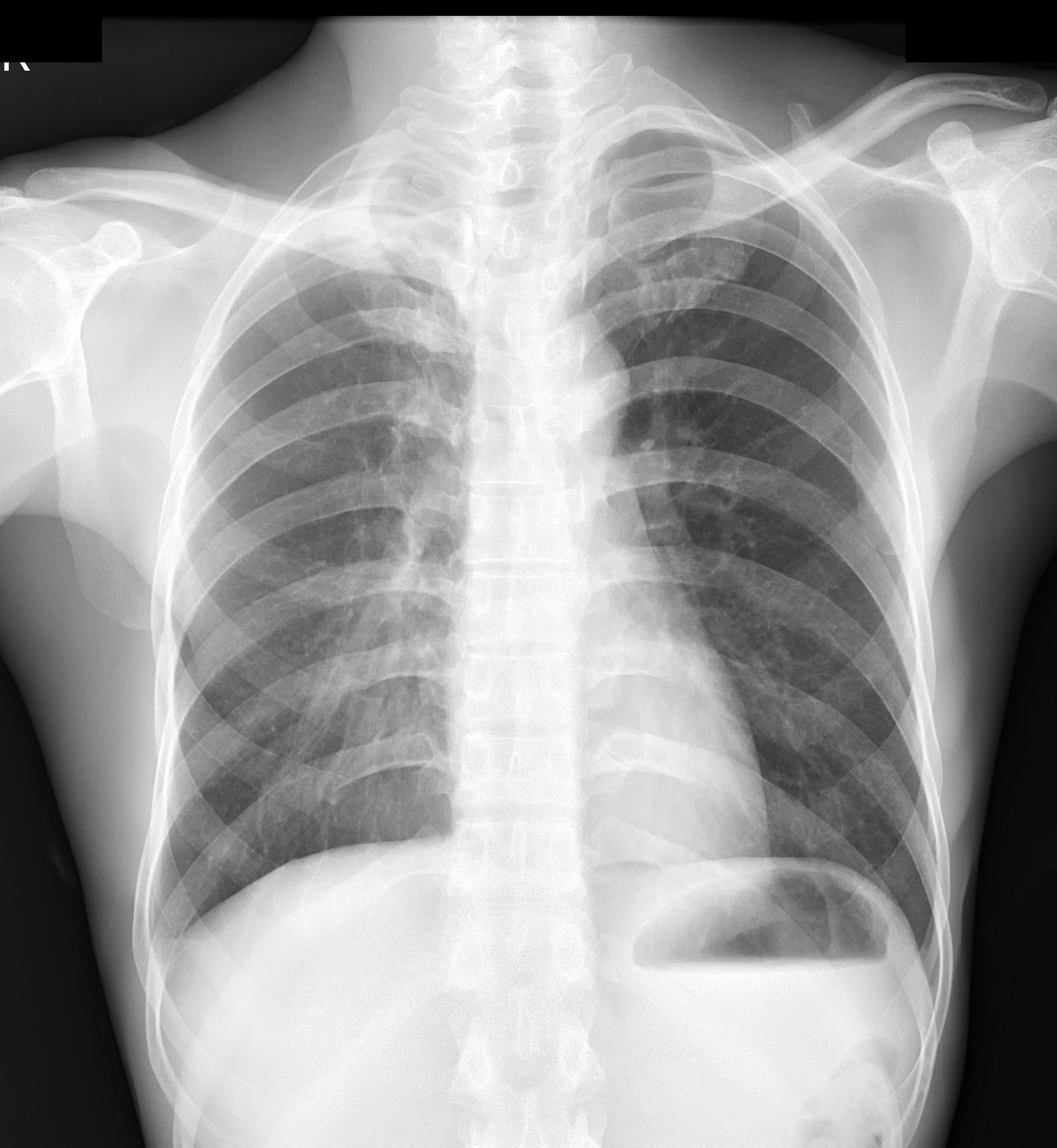Pleural thickening: (123, 903, 184, 1010)
